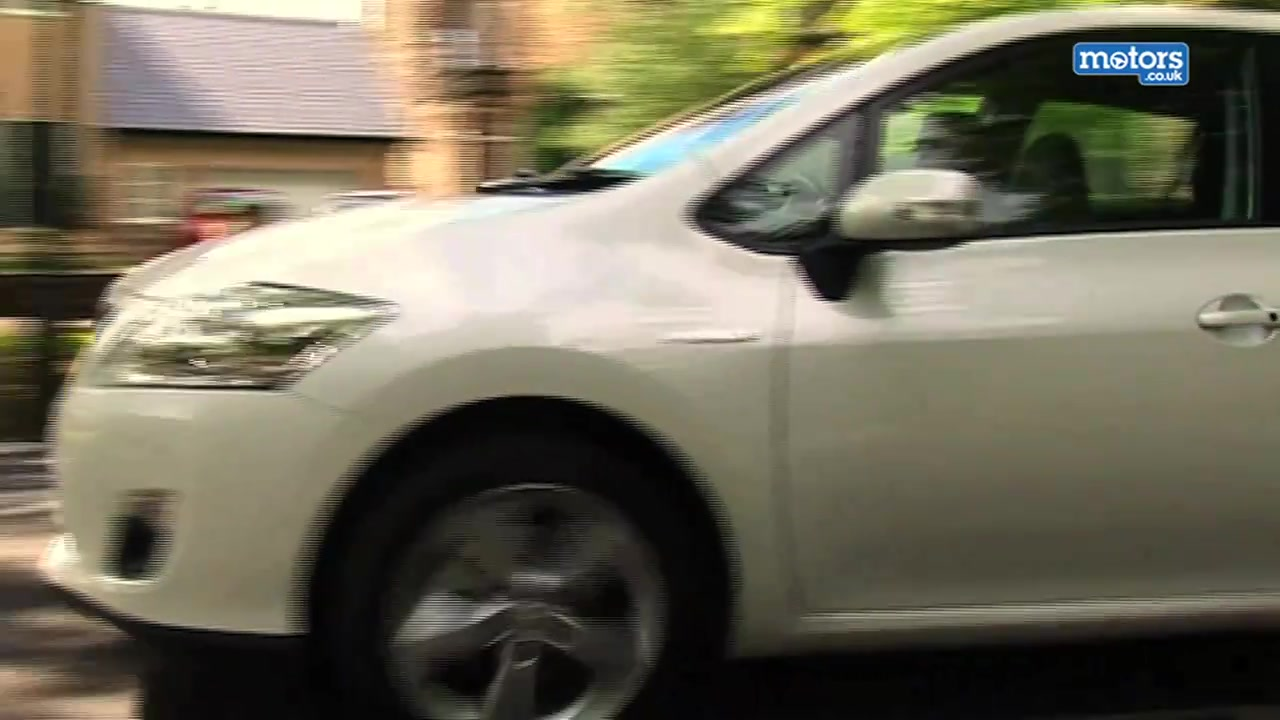car: (47, 3, 1280, 720)
